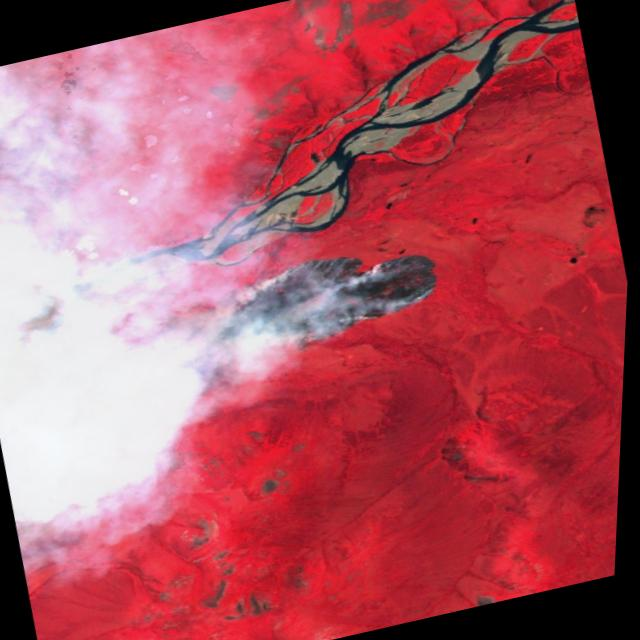fire: (171, 224, 460, 378)
